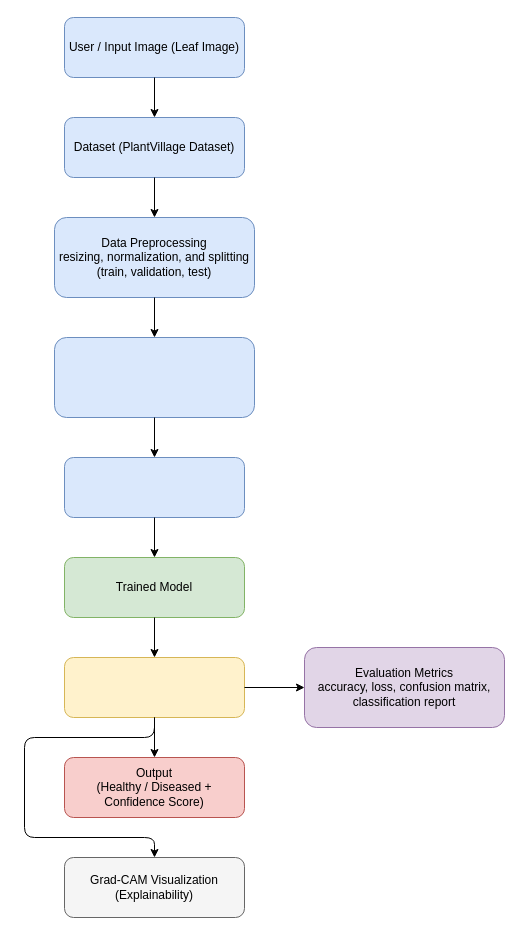
This 522x935 diagram has some shape labels left out. Each missing label, with the centre of its shape:
"Data Augmentation rotation, flipping, brightness adjustment" goes at (x=154, y=377).
"Model Training (MobileNetV2 / CNN)" goes at (x=154, y=487).
"Prediction Module" goes at (x=154, y=687).
